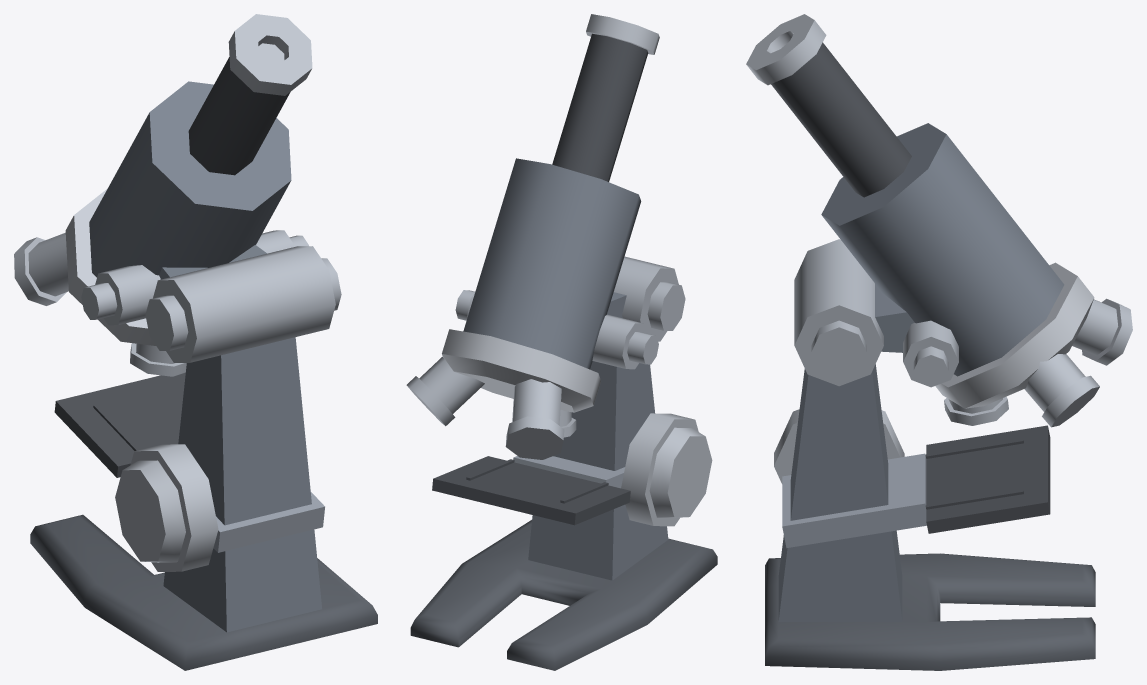
File: machine_microscope.glb
3 renders of one model, left to right at view 1: azimuth 30°, elevation 25°; view 2: azimuth 150°, elevation 25°; view 3: azimuth 270°, elevation 25°, orthographic. The views are drawn at different scales.
Visible parts, largest first — view 1: machine_microscope, machine_microscope_eye_piece, machine_microscope_arm, machine_microscope_, machine_microscope_revolving_nosepiece; view 2: machine_microscope_eye_piece, machine_microscope, machine_microscope_, machine_microscope_revolving_nosepiece, machine_microscope_arm; view 3: machine_microscope, machine_microscope_eye_piece, machine_microscope_arm, machine_microscope_revolving_nosepiece, machine_microscope_.
Boxes of the visible parts, <box> form: machine_microscope: <box>30,337,377,670</box>; machine_microscope_eye_piece: <box>65,14,312,345</box>; machine_microscope_arm: <box>145,245,341,362</box>; machine_microscope_: <box>115,444,218,571</box>; machine_microscope_revolving_nosepiece: <box>14,232,186,376</box>; machine_microscope_eye_piece: <box>442,14,659,412</box>; machine_microscope: <box>410,361,717,670</box>; machine_microscope_: <box>621,413,712,526</box>; machine_microscope_revolving_nosepiece: <box>406,357,576,459</box>; machine_microscope_arm: <box>607,256,685,341</box>; machine_microscope: <box>765,364,1095,670</box>; machine_microscope_eye_piece: <box>746,14,1094,408</box>; machine_microscope_arm: <box>794,239,914,386</box>; machine_microscope_revolving_nosepiece: <box>944,298,1132,427</box>; machine_microscope_: <box>774,409,904,483</box>.
Bounding box in the file's own units: 0.2001 × 0.55 × 0.3214.
Materials: 1 (1 with a texture image).
